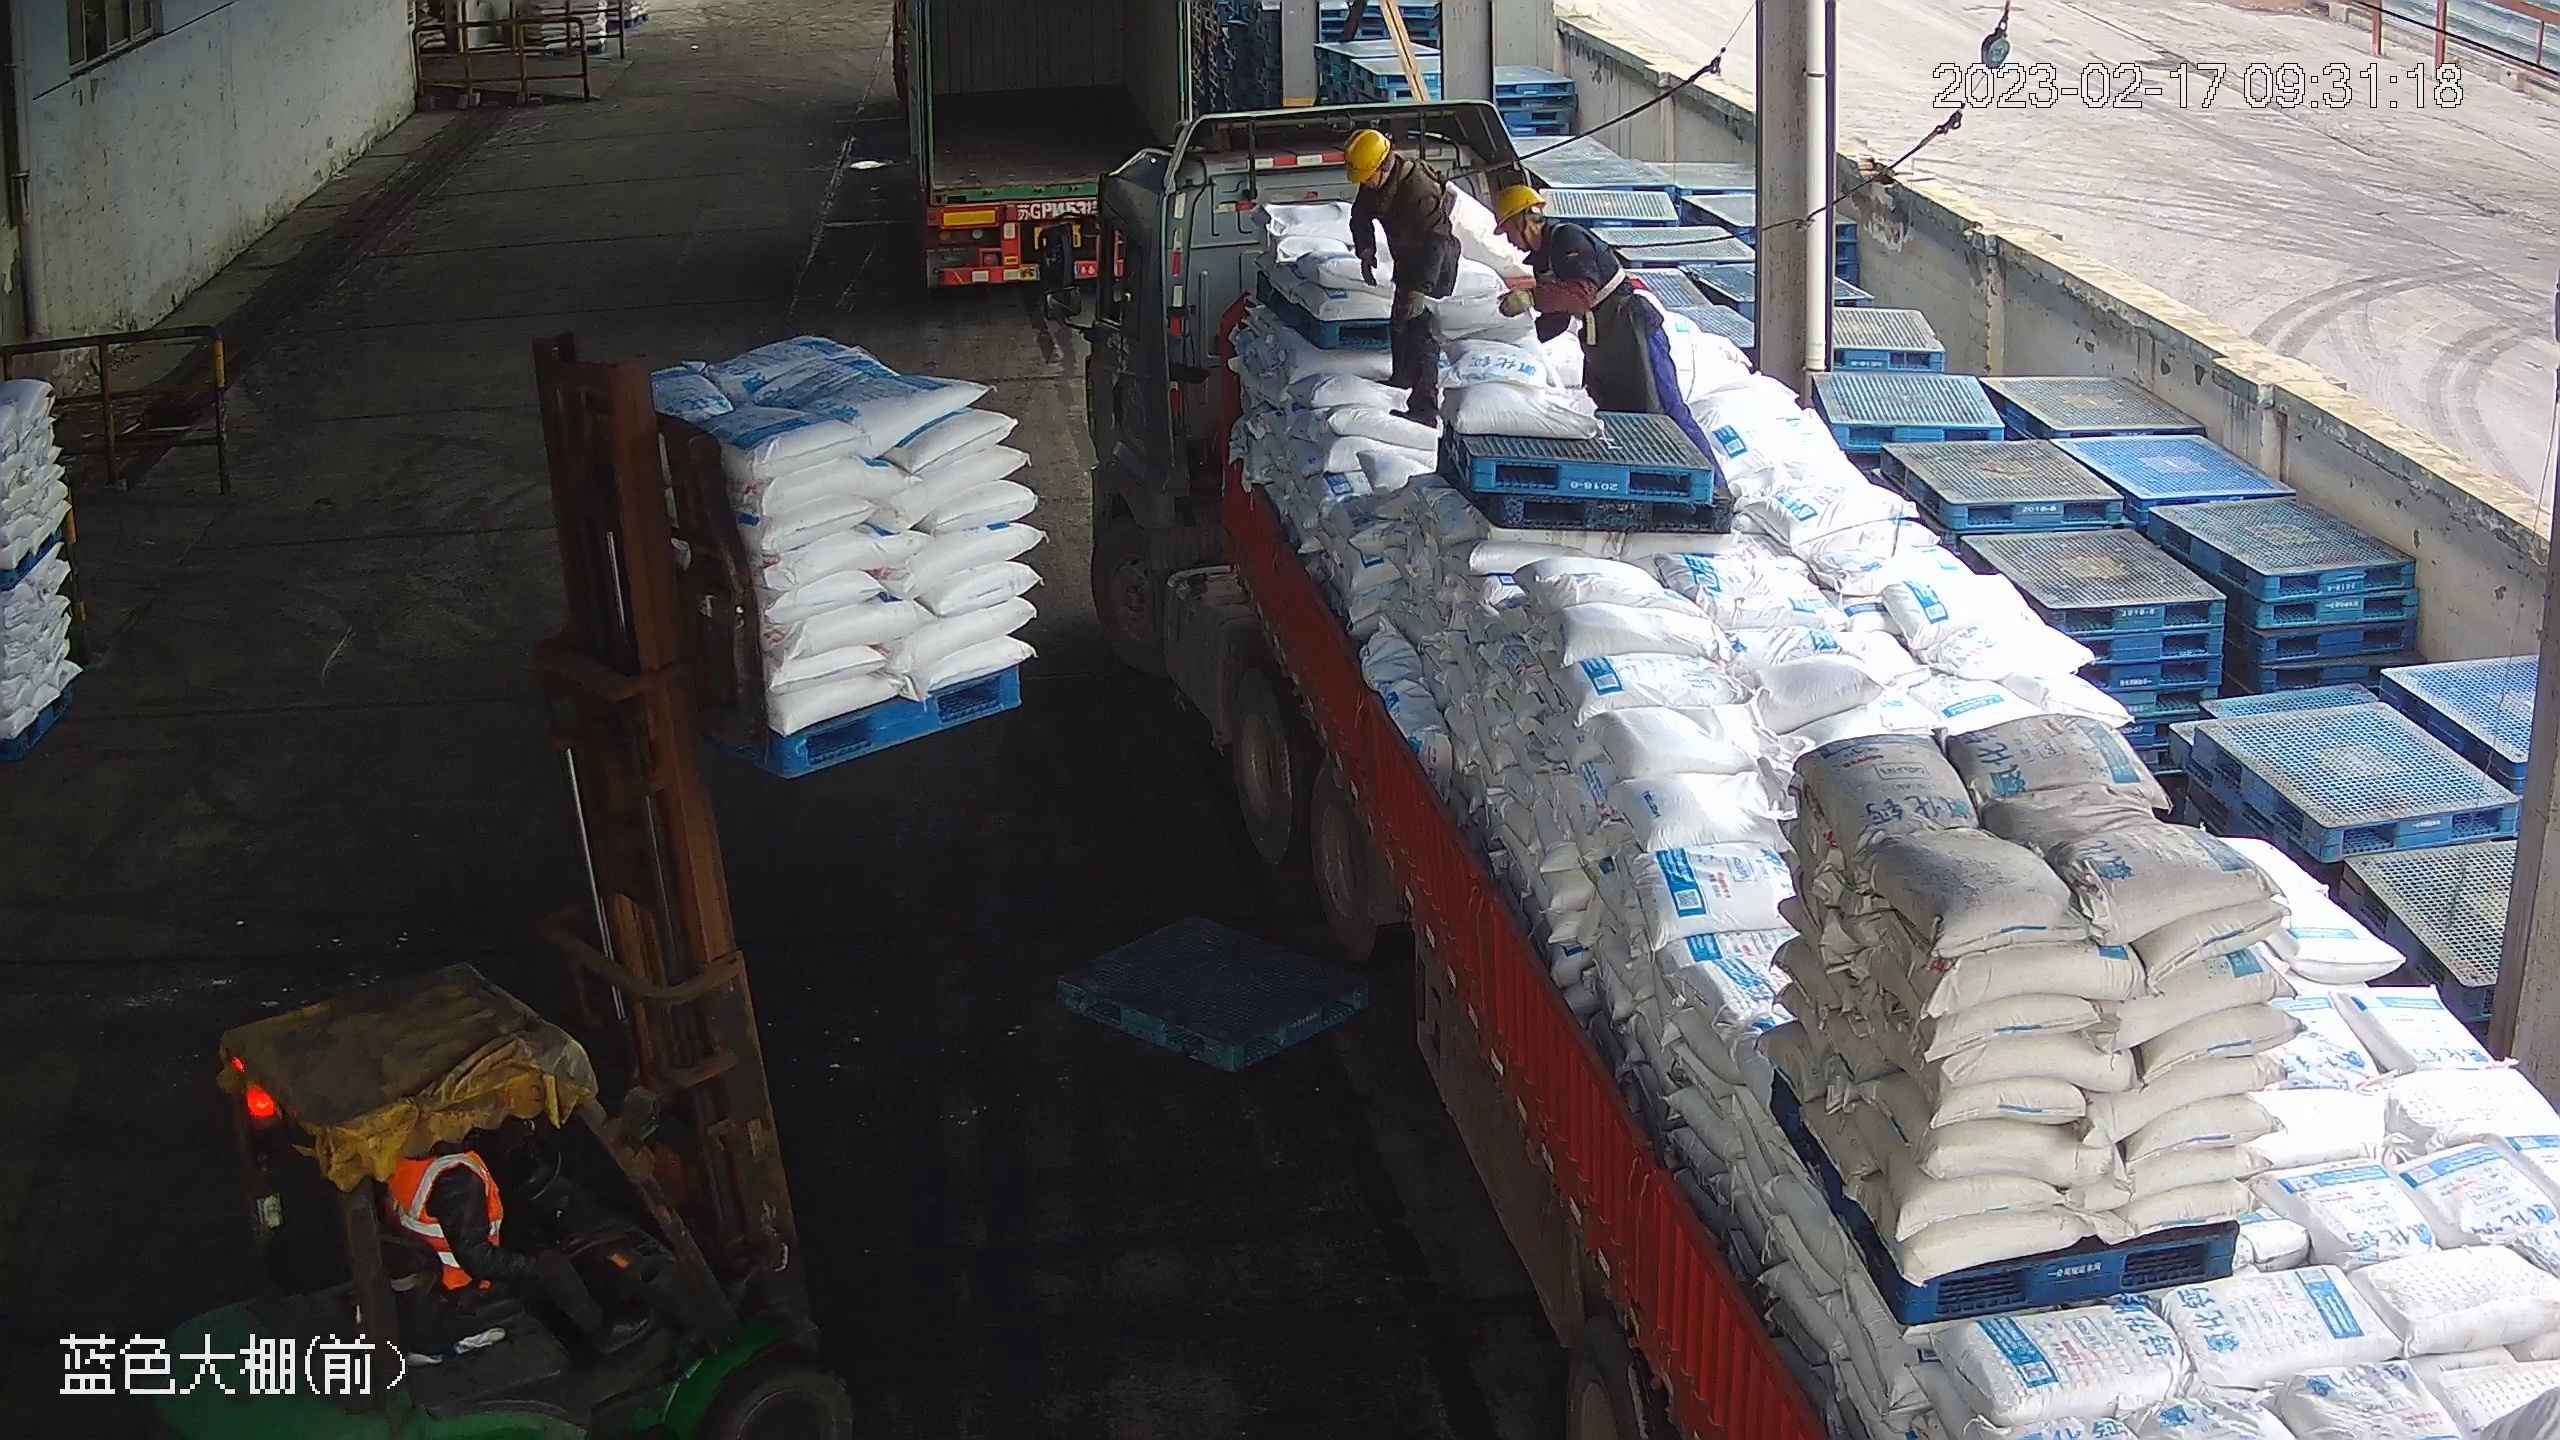belt: (1533, 217, 1628, 319), (1378, 156, 1454, 223)
head: (1493, 184, 1605, 304), (1344, 127, 1443, 241)
helmet: (1493, 184, 1547, 237), (1344, 128, 1391, 185)
people: (1493, 184, 1738, 504), (394, 1156, 682, 1368), (1345, 128, 1462, 431)
truck: (1018, 94, 2560, 1439), (866, 1, 1198, 325)
